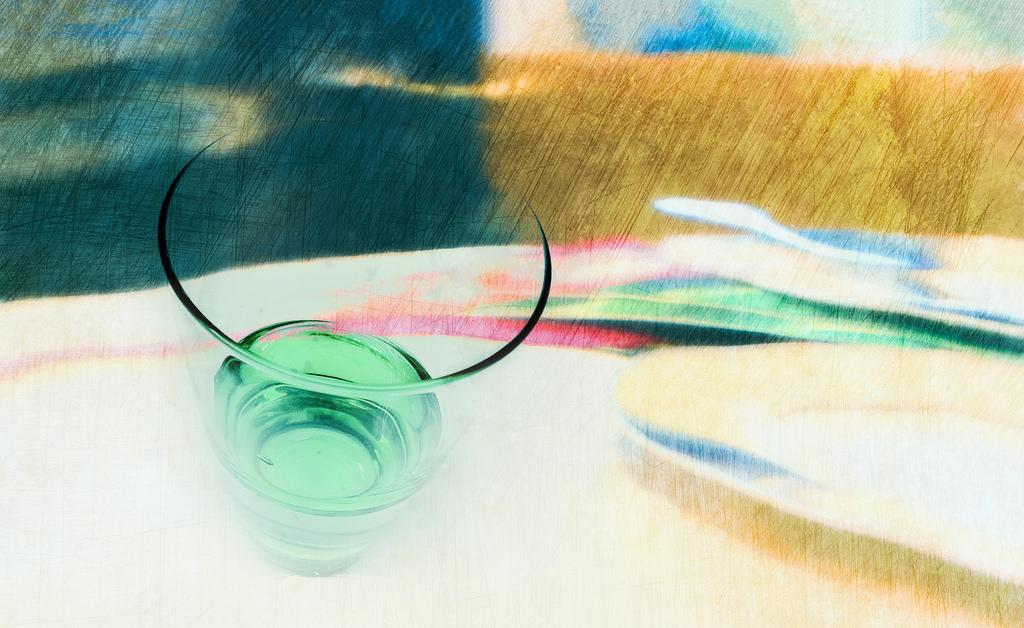glass of water: (169, 125, 544, 572)
